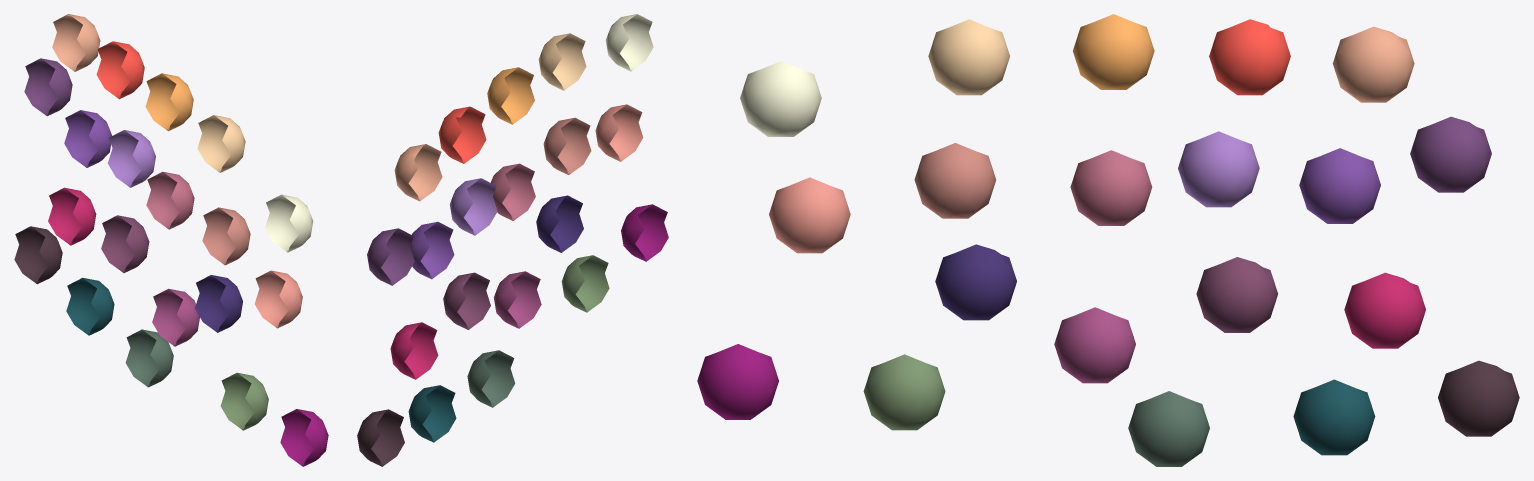
The model's file is spheres.fbx.
3 views of the same model, side by side, from view 1: azimuth 30°, elevation 25°; view 2: azimuth 150°, elevation 25°; view 3: azimuth 270°, elevation 25° (orthographic). The views are drawn at different scales.
Visible parts, largest first — view 1: Icosphere; view 2: Icosphere; view 3: Icosphere.
Part boxes in pixels (left/top/right/bottom): Icosphere: left=14, top=14, right=328, bottom=466; Icosphere: left=357, top=14, right=668, bottom=466; Icosphere: left=697, top=14, right=1519, bottom=466.
Size of the model in its own units: 1.23 by 12.16 by 20.09.
